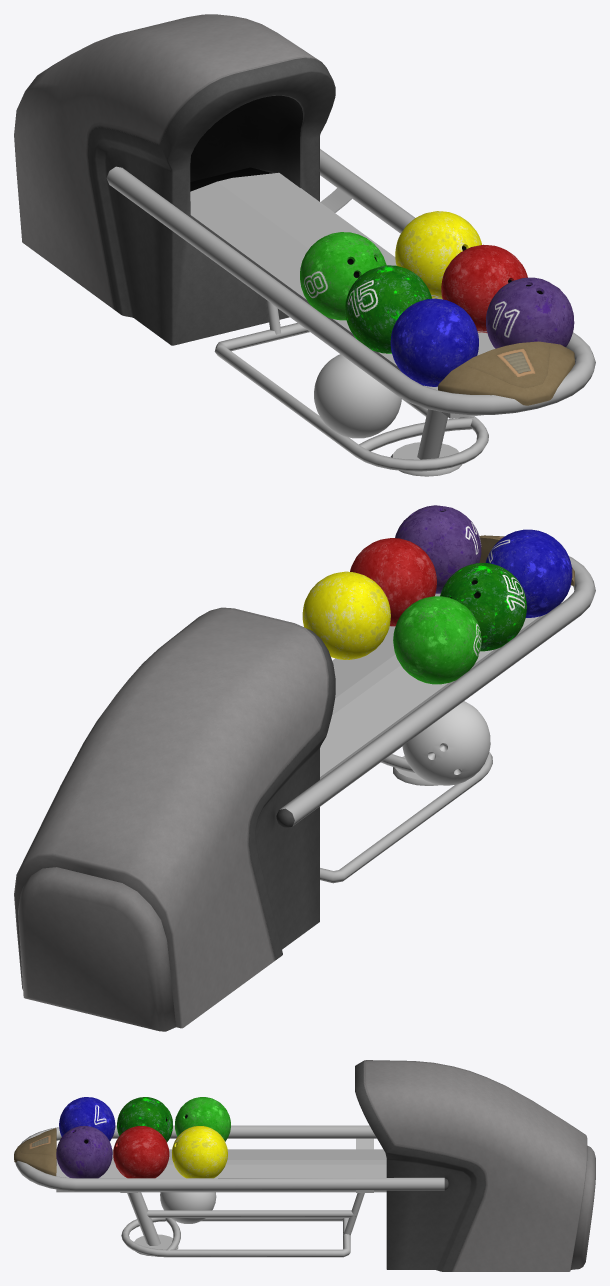
The model's file is back_system.FBX.
The picture shows the model from 3 angles, top to bottom: view 1: azimuth 30°, elevation 25°; view 2: azimuth 150°, elevation 25°; view 3: azimuth 270°, elevation 25°; orthographic projection. The views are drawn at different scales.
Parts seen in each view (by area): view 1: back_sistem, rail, sphere_7, sphere_11, sphere_16, sphere_8, sphere_15, sphere_10, sphere_6; view 2: back_sistem, rail, sphere_8, sphere_10, sphere_16, sphere_7, sphere_15, sphere_6, sphere_11; view 3: back_sistem, rail, sphere_11, sphere_6, sphere_10, sphere_7, sphere_15, sphere_8, sphere_16.
Part boxes in pixels (x1=…): back_sistem: x1=14, y1=14, x2=574, y2=405; rail: x1=106, y1=149, x2=595, y2=476; sphere_7: x1=390, y1=298, x2=478, y2=386; sphere_11: x1=486, y1=277, x2=574, y2=348; sphere_16: x1=314, y1=354, x2=401, y2=438; sphere_8: x1=300, y1=232, x2=386, y2=320; sphere_15: x1=345, y1=265, x2=432, y2=353; sphere_10: x1=395, y1=211, x2=481, y2=299; sphere_6: x1=441, y1=244, x2=527, y2=333; back_sistem: x1=14, y1=535, x2=574, y2=1031; rail: x1=279, y1=556, x2=595, y2=883; sphere_8: x1=393, y1=596, x2=481, y2=684; sphere_10: x1=302, y1=571, x2=390, y2=659; sphere_16: x1=402, y1=701, x2=490, y2=785; sphere_7: x1=485, y1=529, x2=572, y2=617; sphere_15: x1=440, y1=563, x2=526, y2=651; sphere_6: x1=350, y1=538, x2=436, y2=626; sphere_11: x1=395, y1=505, x2=481, y2=593; back_sistem: x1=14, y1=1060, x2=595, y2=1271; rail: x1=15, y1=1125, x2=444, y2=1257; sphere_11: x1=56, y1=1126, x2=112, y2=1178; sphere_6: x1=113, y1=1126, x2=169, y2=1178; sphere_10: x1=172, y1=1126, x2=227, y2=1178; sphere_7: x1=59, y1=1097, x2=115, y2=1141; sphere_15: x1=117, y1=1097, x2=172, y2=1142; sphere_8: x1=175, y1=1097, x2=230, y2=1141; sphere_16: x1=160, y1=1192, x2=216, y2=1223.
Bounding box in the file's own units: 0.5351 × 0.7451 × 2.25.
